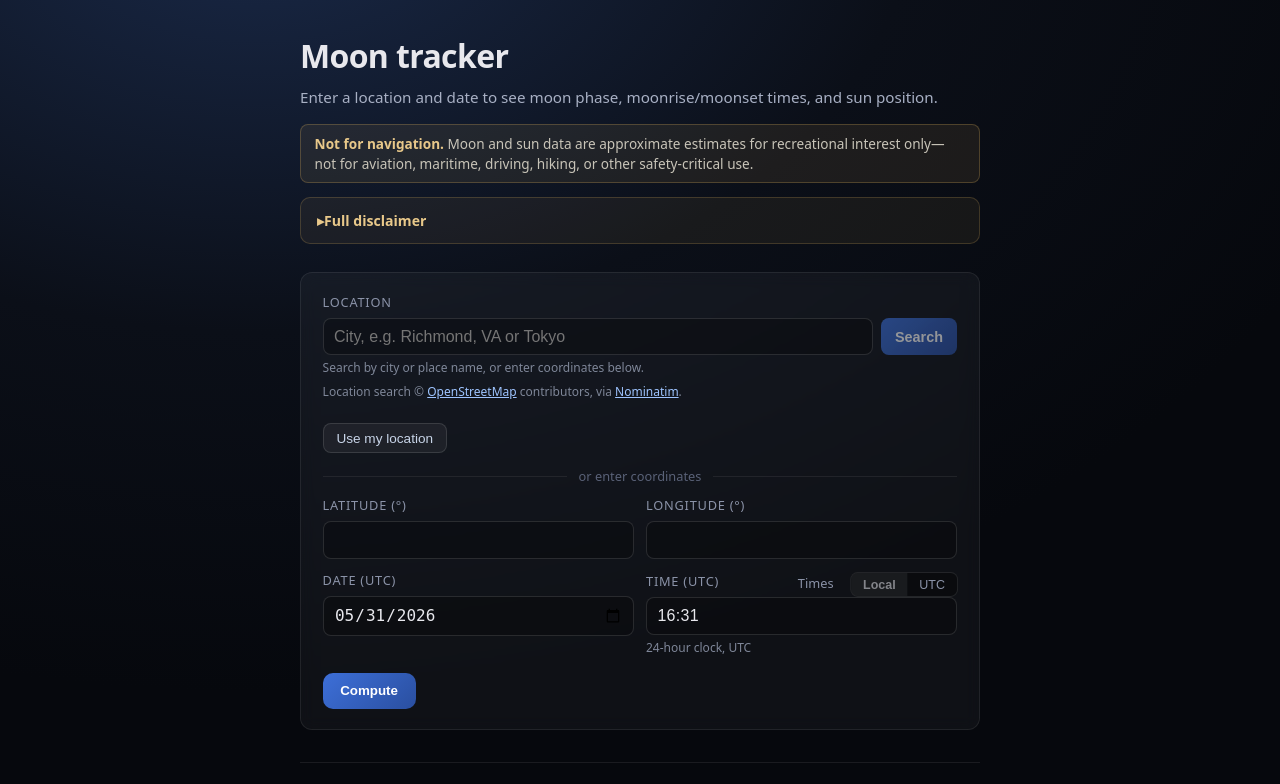
Test case: location search (Nominatim) › shows no-results copy when Nominatim returns an empty array
The width and height of the screenshot is (1280, 784).
Type "Nowhereville XYZ" into the search field with placeholder "City, e.g. Richmond, VA or Tokyo" at coordinates (598, 337), box [323,318,873,356]
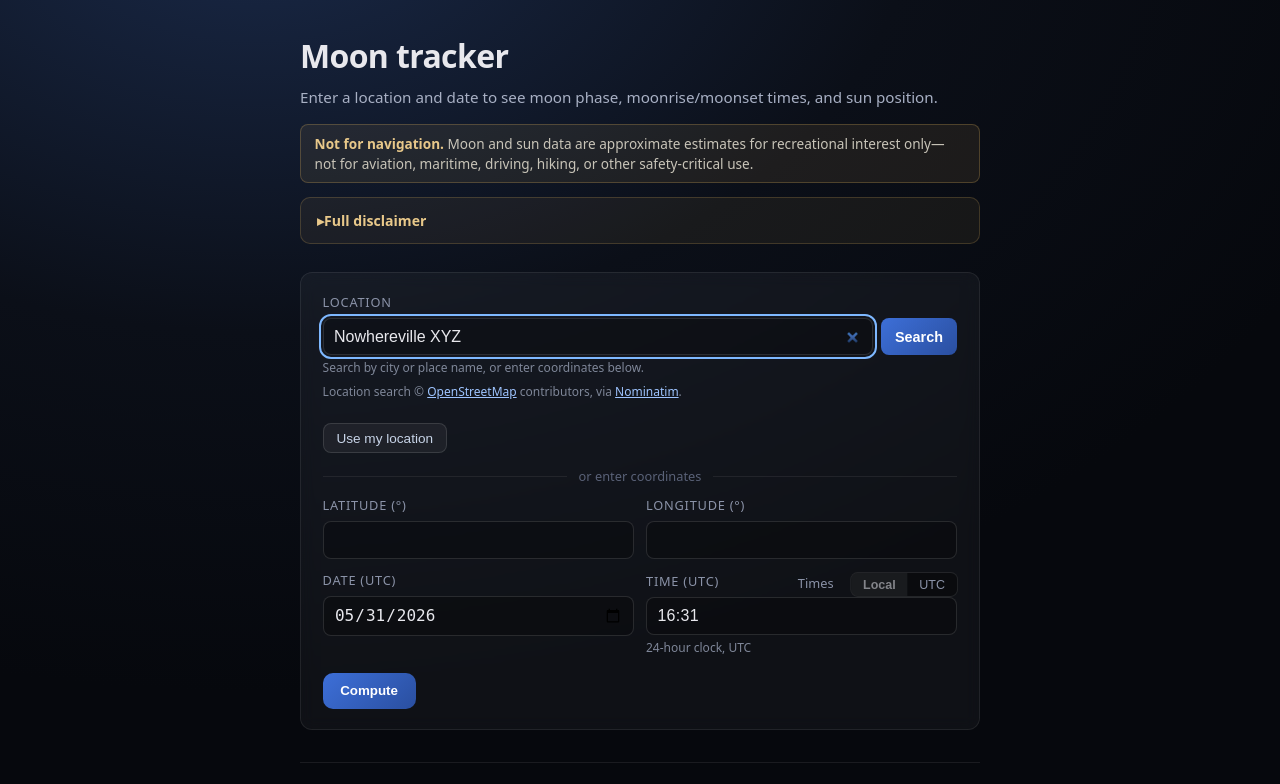
Click the button "Search" at coordinates (919, 337), box [881,318,957,356]
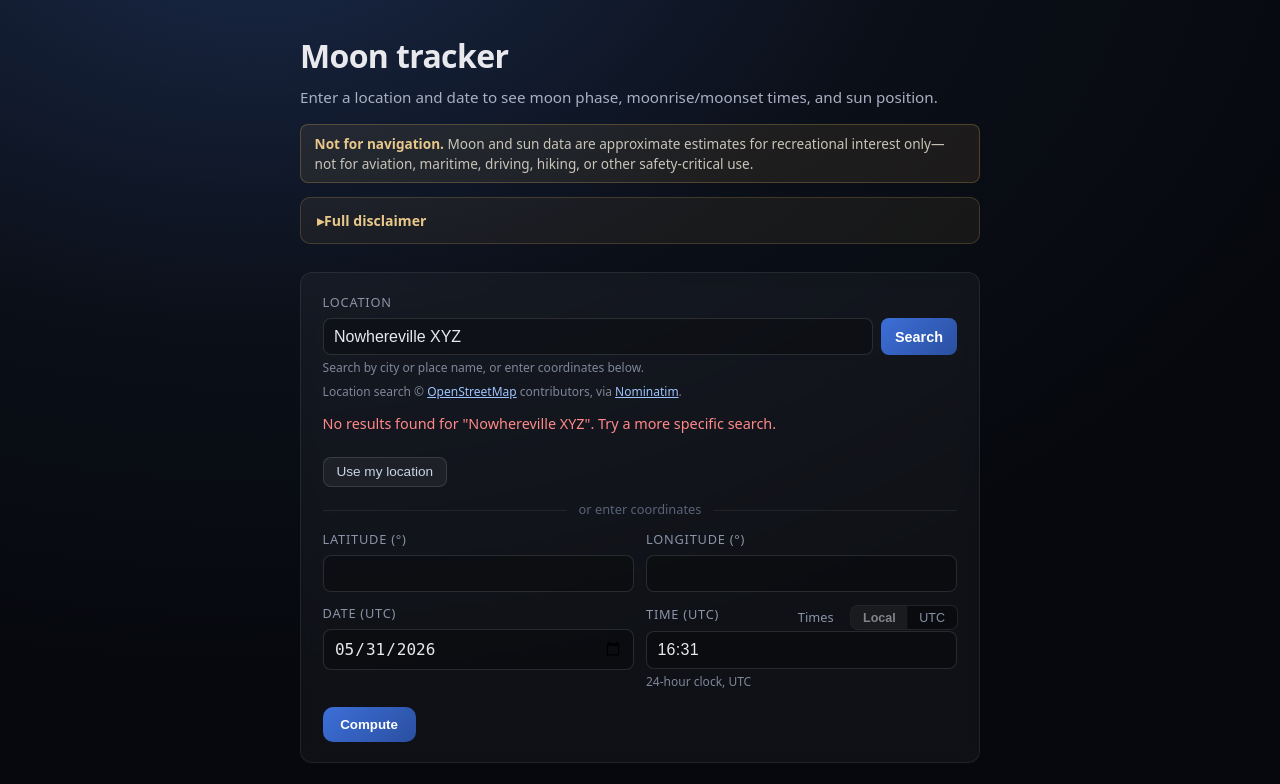
Expected: the field labelled "Latitude (°)" is empty, [323,555,634,592]
Result: the text "No results found for \"Nowhereville XYZ\". Try a more specific search." is shown at [323,414,776,433]
